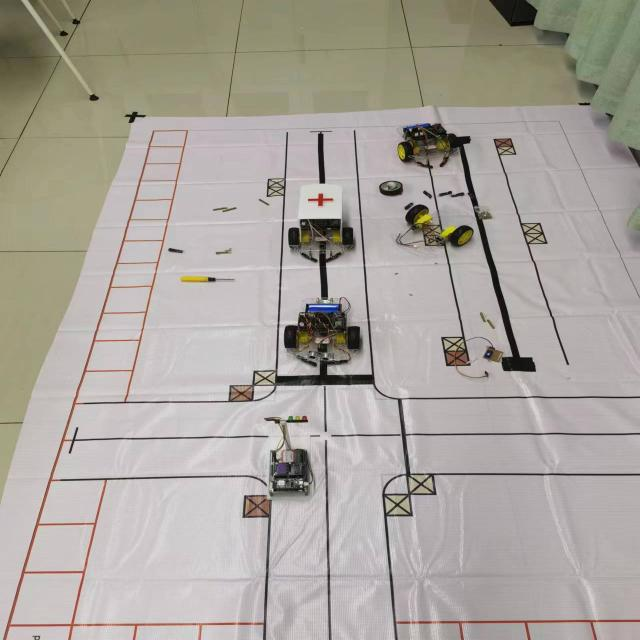RedCross: (305, 190, 336, 209)
